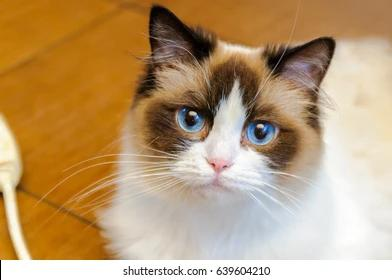ragdoll: (118, 1, 341, 222)
